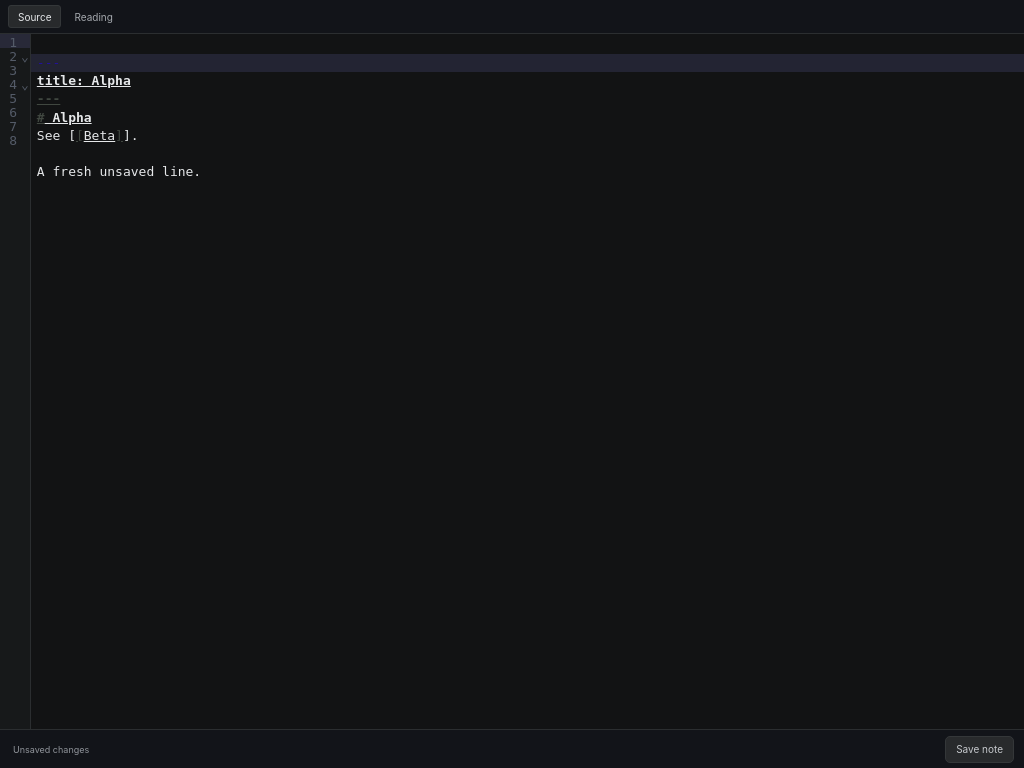
reading view › keeps unsaved edits when switching between Source and Reading
Click the button "Reading": point(94, 16) [64,5,123,28]
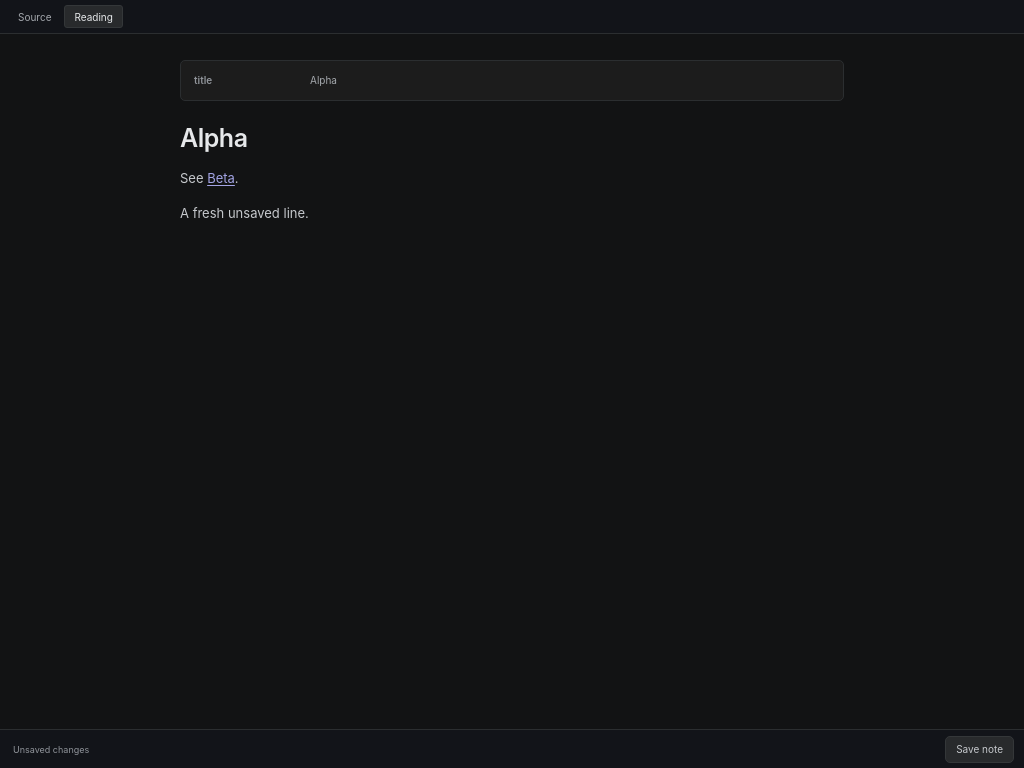
Result: the element named "Rendered note" shows "A fresh unsaved line." at [180,205,309,221]
Click the button "Source": point(35, 16) [8,5,62,28]
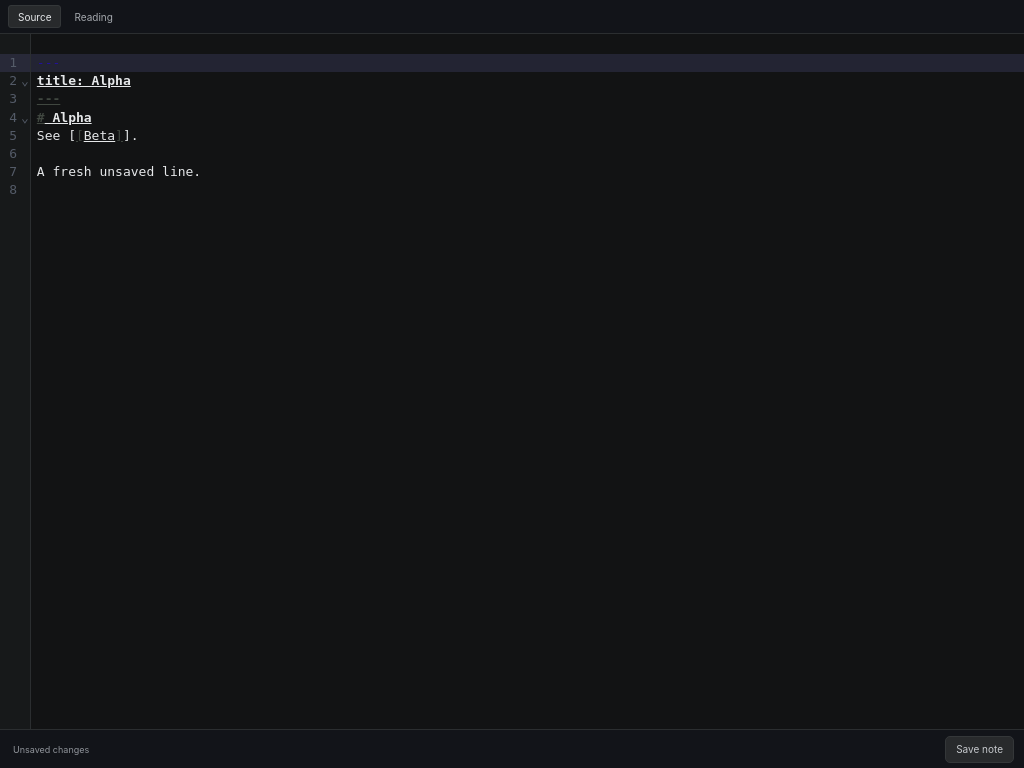
Expected: the button "Save note" is enabled, [945,736,1014,762]
Result: the field named "Edit notes/alpha.md" shows "A fresh unsaved line." at [31,54,1023,179]
